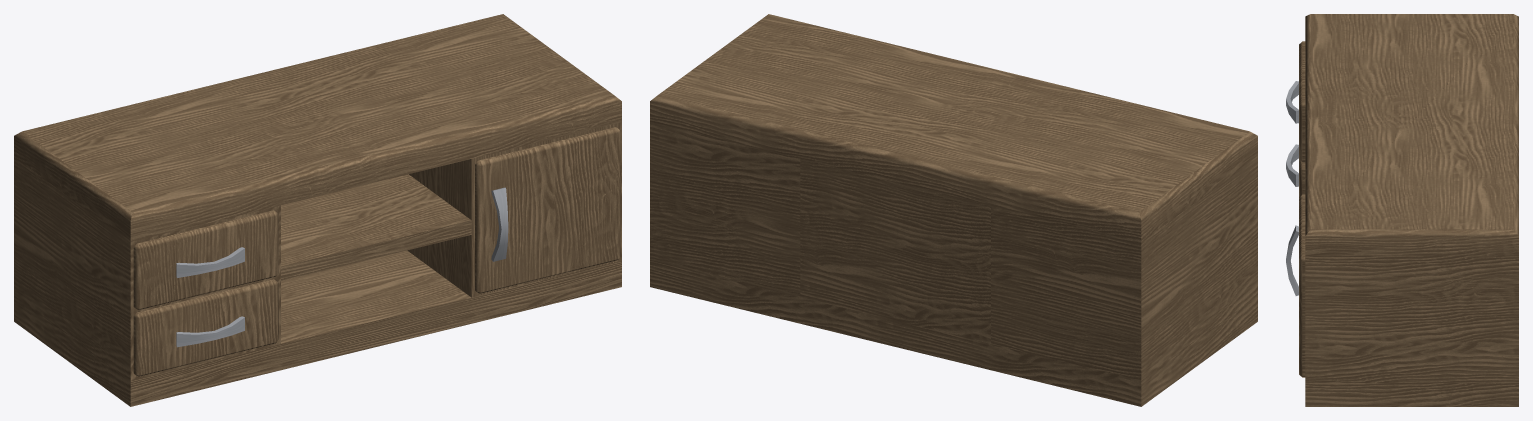
Rendered from wall_cabinet_006.fbx.
3 views of the same model, side by side, from view 1: azimuth 30°, elevation 25°; view 2: azimuth 150°, elevation 25°; view 3: azimuth 270°, elevation 25° (orthographic). The views are drawn at different scales.
Parts seen in each view (by area): view 1: wall_cabinet_006; view 2: wall_cabinet_006; view 3: wall_cabinet_006.
Part boxes in pixels (x1=…): wall_cabinet_006: x1=14, y1=14, x2=621, y2=406; wall_cabinet_006: x1=650, y1=14, x2=1257, y2=406; wall_cabinet_006: x1=1286, y1=14, x2=1518, y2=406.
Size of the model in its own units: 208 by 92.94 by 77.17.
